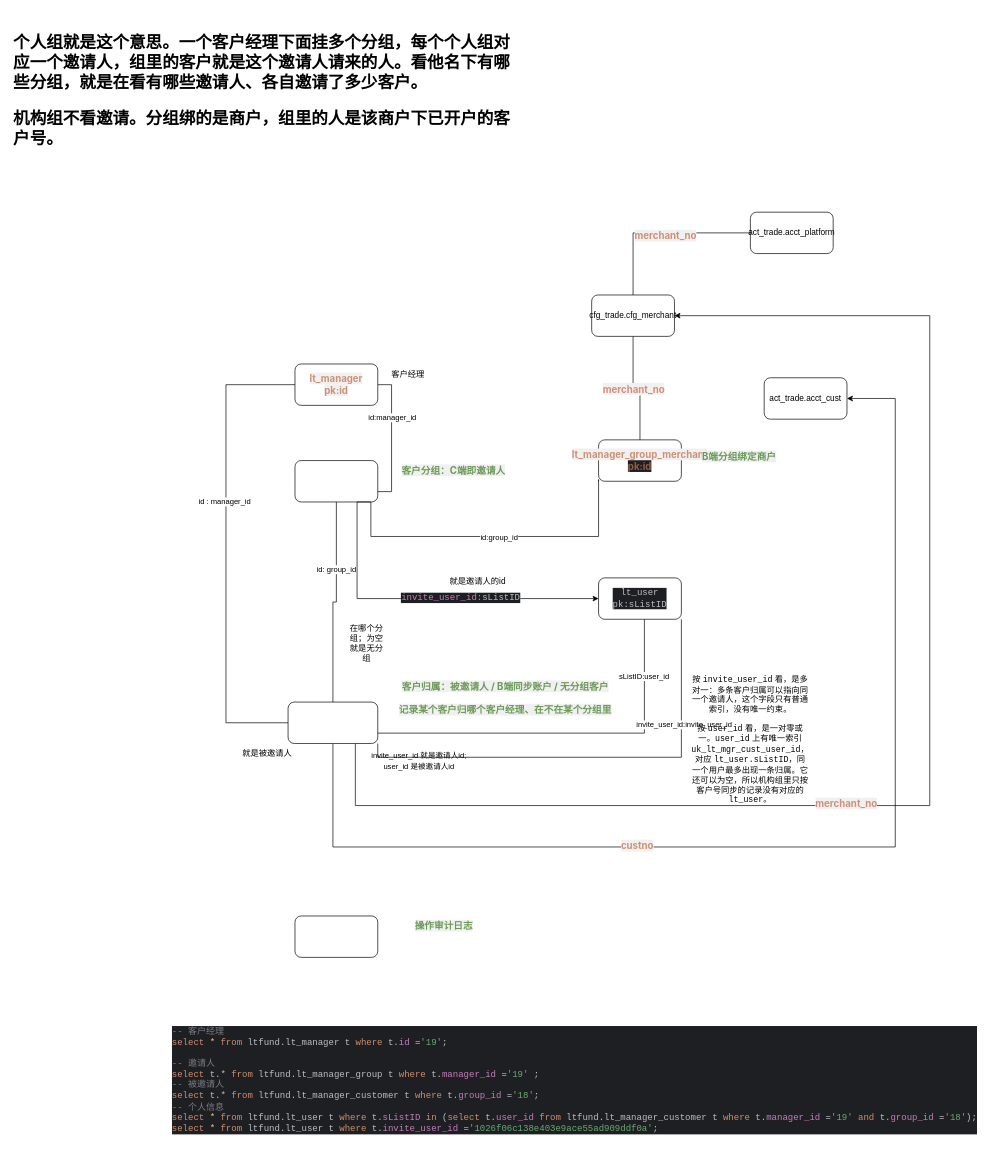
Some shapes in this 996 by 1164 pixel diagram are drawn without their labels. The centre of each missing label's shape, as x and y in pixels:
"lt_manager_audit_log pk:id" belongs at pixel 336 936.
"lt_manager_customer pk:id" belongs at pixel 332 722.
"lt_manager_group pk:id" belongs at pixel 336 481.
